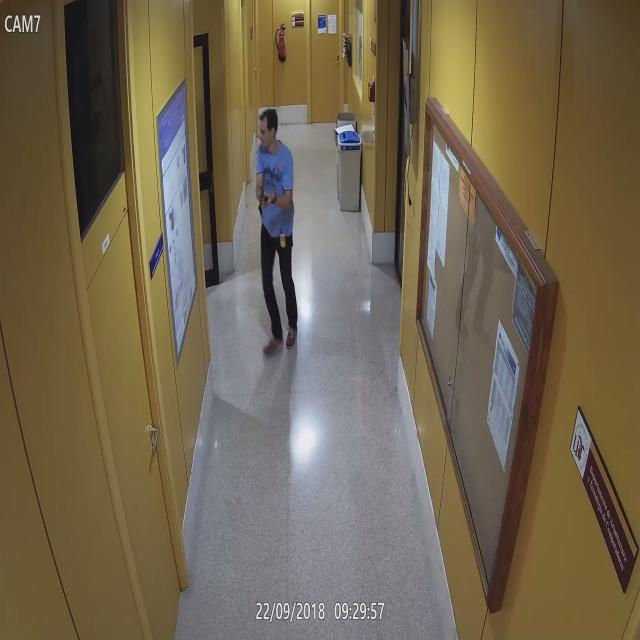Gun: (257, 180, 266, 204)
